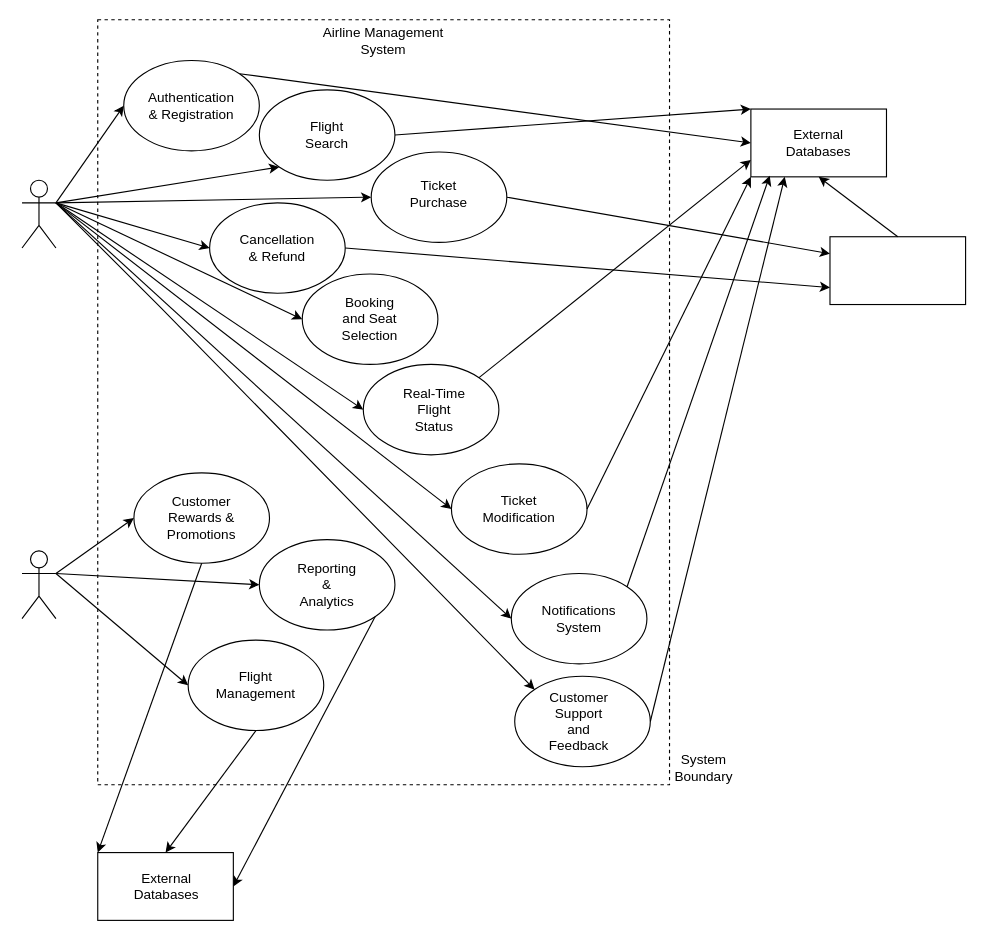
The diagram is 985 pixels wide and 940 high, and some of its shapes have lost their labels. The shapes that lost their labels are listed below. From the top down, each one's centre as x and y in pixels, then its label:
the point at 38,213: User
the point at 897,270: Payment Gateways
the point at 38,584: Admin
